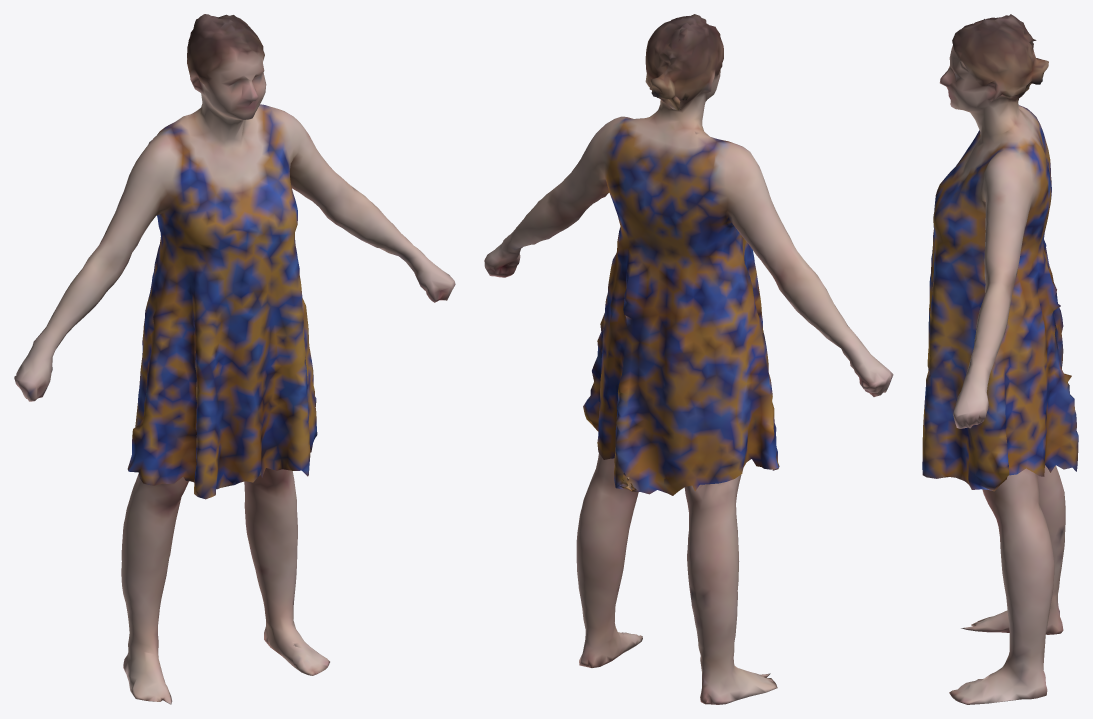
File: magdalena.obj
The picture shows the model from 3 angles, left to right: view 1: azimuth 30°, elevation 25°; view 2: azimuth 150°, elevation 25°; view 3: azimuth 270°, elevation 25°; orthographic projection. The views are drawn at different scales.
Size of the model in its own units: 1088 by 1625 by 358.
